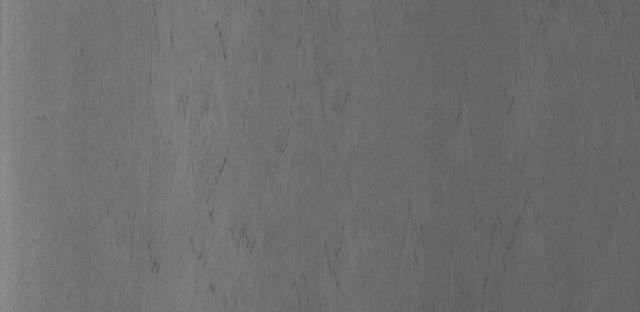silk_spot: (164, 45, 352, 219)
